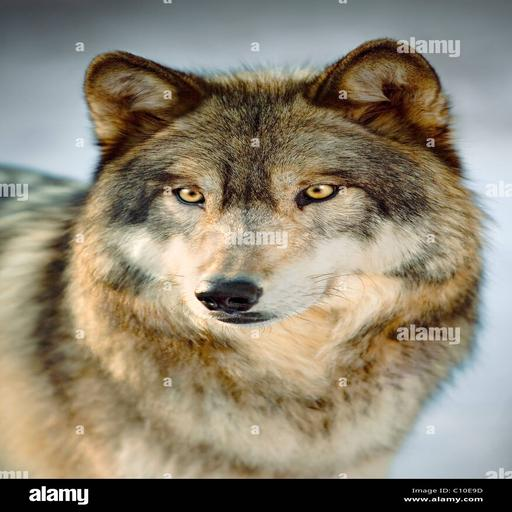Wolf: (0, 35, 512, 480)
